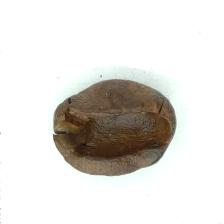NG: (61, 98, 162, 167)
